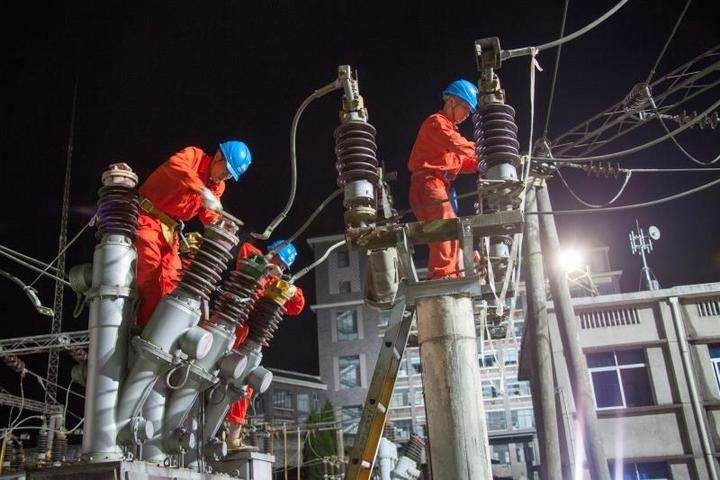blue: (208, 132, 252, 187), (438, 75, 480, 125), (266, 234, 297, 276)
